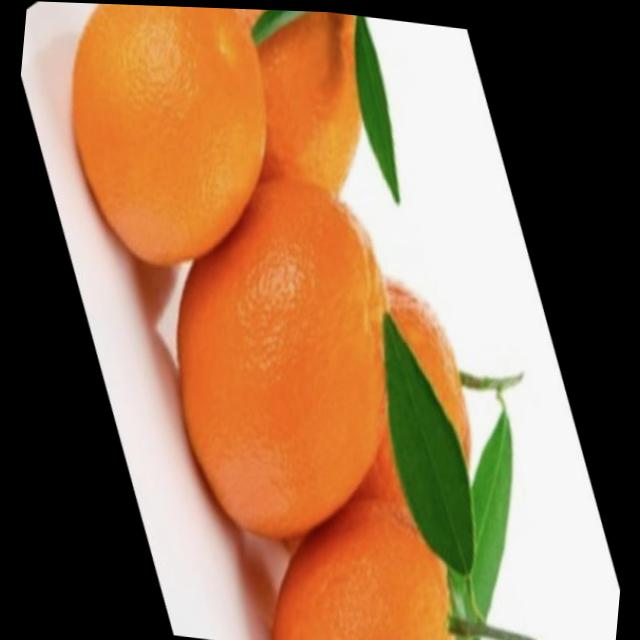Orange: (159, 162, 408, 551), (56, 2, 279, 277), (196, 6, 372, 198), (356, 274, 486, 526), (269, 481, 473, 640)
